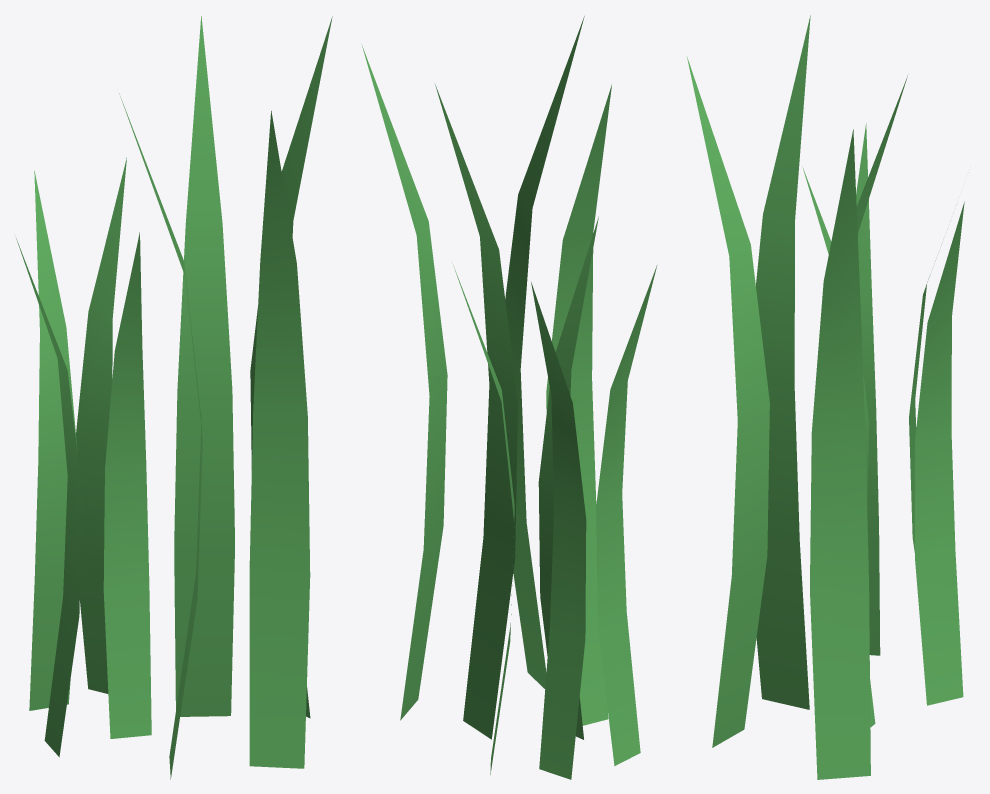
File: bixieGrass.fbx
3 renders of one model, left to right at view 1: azimuth 30°, elevation 25°; view 2: azimuth 150°, elevation 25°; view 3: azimuth 270°, elevation 25°, orthographic. The views are drawn at different scales.
Visible parts, largest first — view 1: Plane.036; view 2: Plane.036; view 3: Plane.036.
Part boxes in pixels (left/top/right/bottom): Plane.036: left=16, top=16, right=332, bottom=779; Plane.036: left=361, top=16, right=657, bottom=779; Plane.036: left=687, top=15, right=964, bottom=779.
Size of the model in its own units: 24.68 by 51.84 by 20.06.
